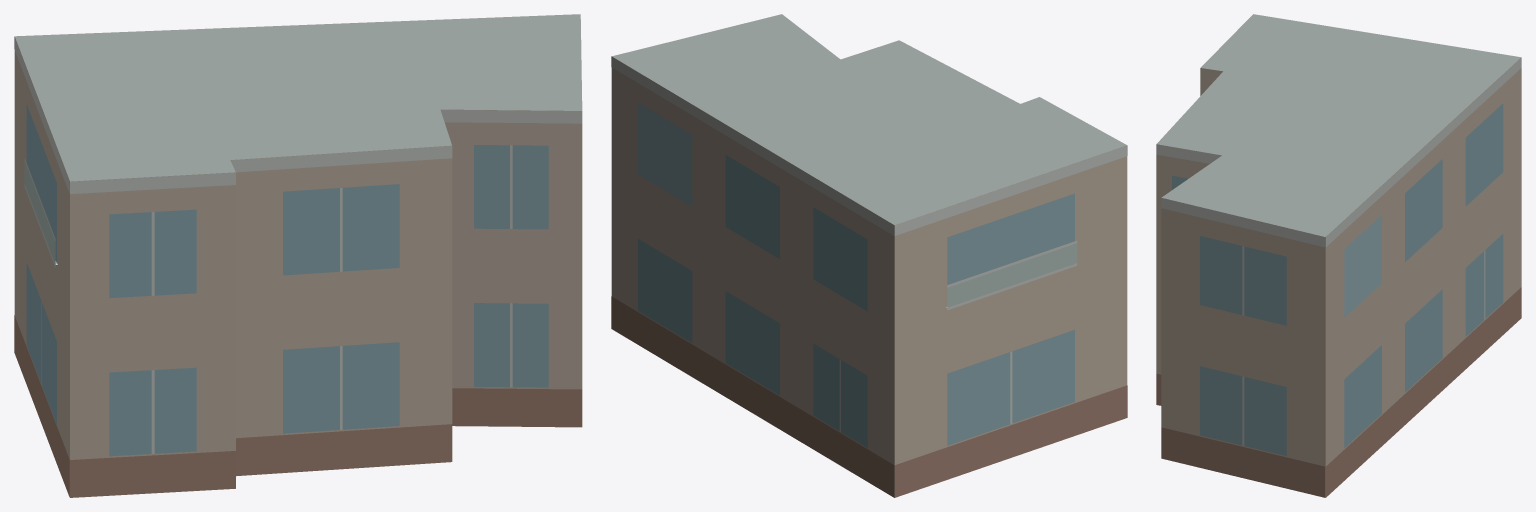
File: survey-upis-33000981.glb
3 views of the same model, side by side, from view 1: azimuth 30°, elevation 25°; view 2: azimuth 150°, elevation 25°; view 3: azimuth 270°, elevation 25° (orthographic). The views are drawn at different scales.
Visible parts, largest first — view 1: survey-upis-33000981.tmp; view 2: survey-upis-33000981.tmp; view 3: survey-upis-33000981.tmp.
Boxes of the visible parts, x1=… form: survey-upis-33000981.tmp: x1=14, y1=14, x2=582, y2=497; survey-upis-33000981.tmp: x1=611, y1=14, x2=1127, y2=497; survey-upis-33000981.tmp: x1=1156, y1=14, x2=1521, y2=497.
Size of the model in its own units: 11.2 by 6.1 by 7.75.
